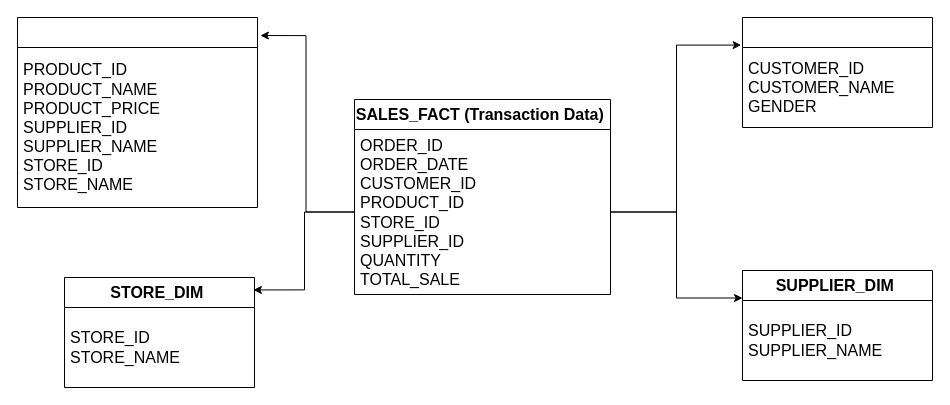
Some shapes in this 950 by 405 pixel diagram are drawn without their labels. The box of each missing label's shape, as (x1, y1, x2, y2) in pixels:
CUSTOMERS_DIM: (742, 16, 932, 128)
PRODUCTS_DIM: (16, 16, 258, 208)
